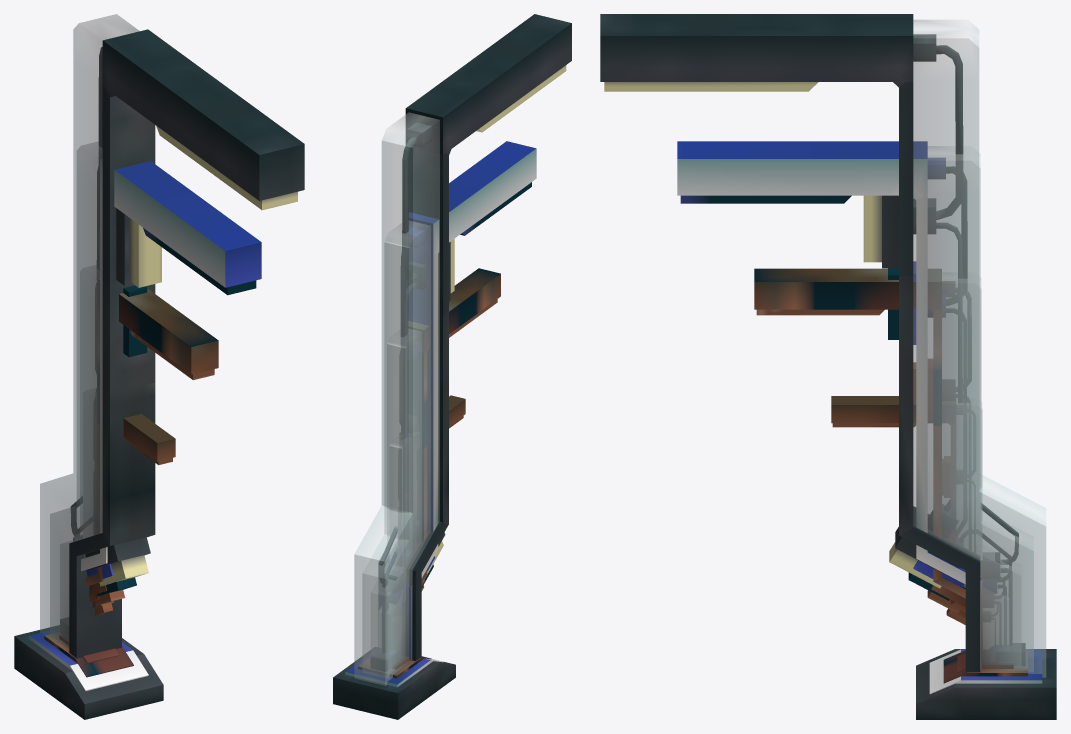
File: lamp-004.gltf
3 renders of one model, left to right at view 1: azimuth 30°, elevation 25°; view 2: azimuth 150°, elevation 25°; view 3: azimuth 270°, elevation 25°, orthographic. The views are drawn at different scales.
Parts seen in each view (by area): view 1: _MeshInstance3D_610, _MeshInstance3D_609, _MeshInstance3D_608, Cube1; view 2: _MeshInstance3D_610, _MeshInstance3D_609, _MeshInstance3D_608, Cube1; view 3: _MeshInstance3D_610, _MeshInstance3D_609, _MeshInstance3D_608, Cube1.
Boxes of the visible parts, <box> form: _MeshInstance3D_610: <box>14,14,304,719</box>; _MeshInstance3D_609: <box>29,142,261,691</box>; _MeshInstance3D_608: <box>44,277,218,677</box>; Cube1: <box>59,414,175,663</box>; _MeshInstance3D_610: <box>333,14,571,719</box>; _MeshInstance3D_609: <box>345,141,536,687</box>; _MeshInstance3D_608: <box>358,268,500,678</box>; Cube1: <box>389,395,465,669</box>; _MeshInstance3D_610: <box>600,14,1056,719</box>; _MeshInstance3D_609: <box>677,141,1042,694</box>; _MeshInstance3D_608: <box>754,268,1027,683</box>; Cube1: <box>831,396,1013,672</box>.
Size of the model in its own units: 23.65 by 193 by 118.
Materials: 8 (4 with a texture image).
